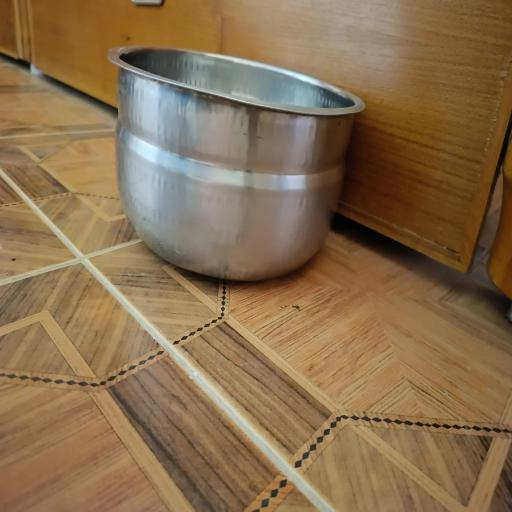vessel: (108, 46, 364, 280)
